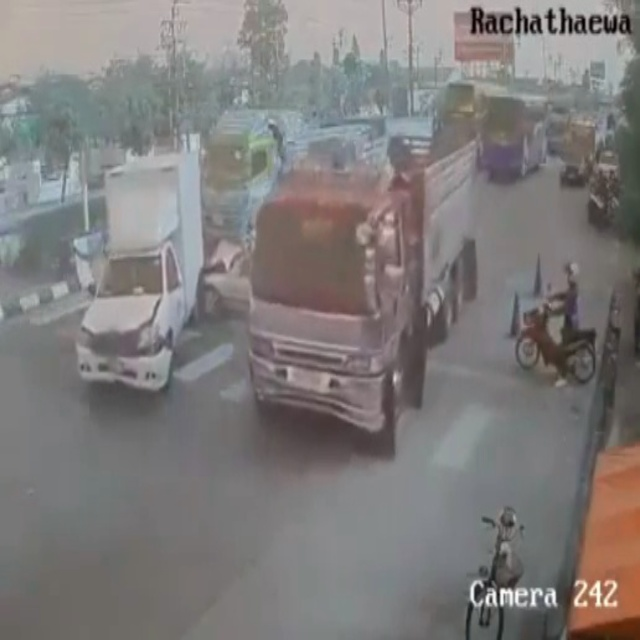acc: (75, 249, 256, 397)
